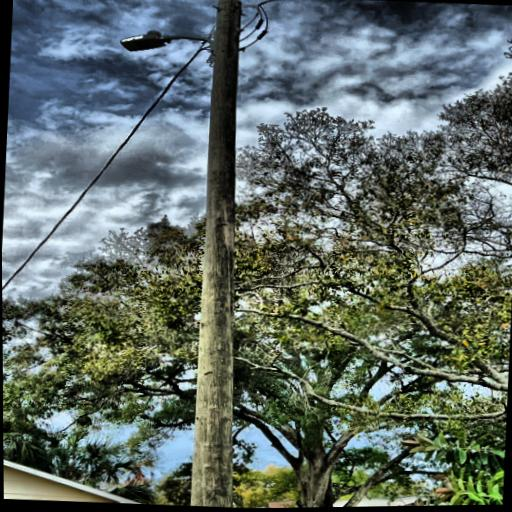pole: (169, 0, 278, 508)
street light: (119, 25, 222, 62)
